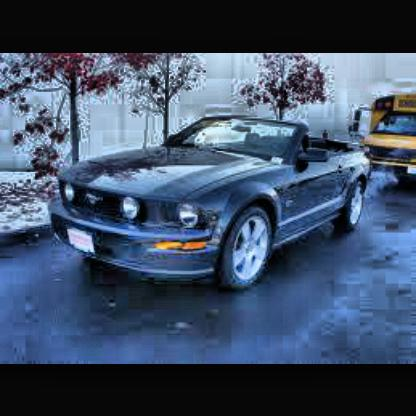Ford Mustang Convertible 2007: (50, 114, 377, 298)
